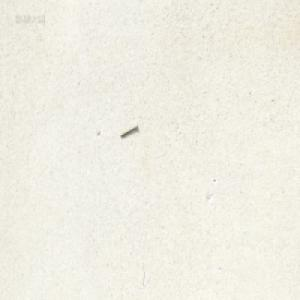Bolt: (119, 123, 137, 137)
